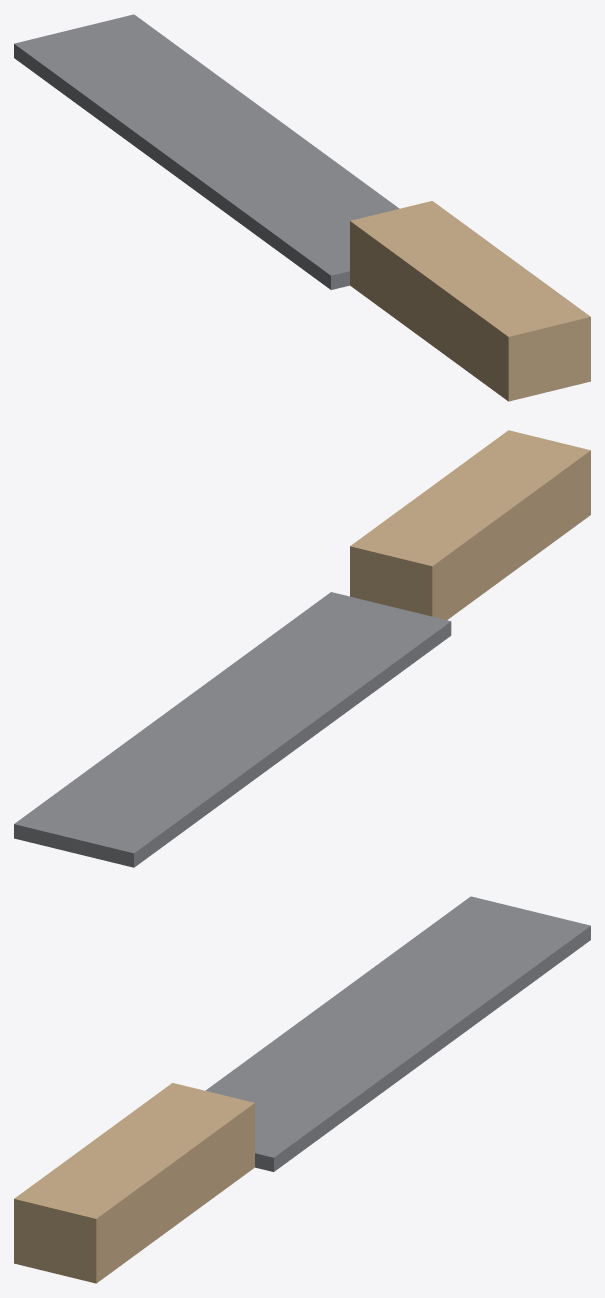
Rendered from prop-shingle-dressing-knife-sg1.fbx.
3 renders of one model, top to bottom at view 1: azimuth 30°, elevation 25°; view 2: azimuth 150°, elevation 25°; view 3: azimuth 330°, elevation 25°, orthographic.
Visible parts, largest first — view 1: prop-shingle-dressing-knife-sg1; view 2: prop-shingle-dressing-knife-sg1; view 3: prop-shingle-dressing-knife-sg1.
Boxes of the visible parts, bbox=[...] form: prop-shingle-dressing-knife-sg1: bbox=[14, 14, 590, 401]; prop-shingle-dressing-knife-sg1: bbox=[14, 430, 590, 867]; prop-shingle-dressing-knife-sg1: bbox=[14, 896, 590, 1283].
Size of the model in its own units: 3.5 by 1.8 by 24.
